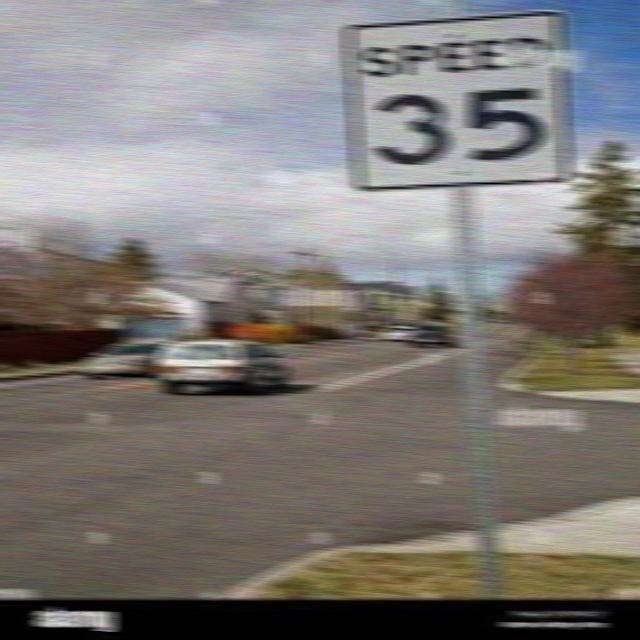speedLimit35: (341, 18, 570, 186)
